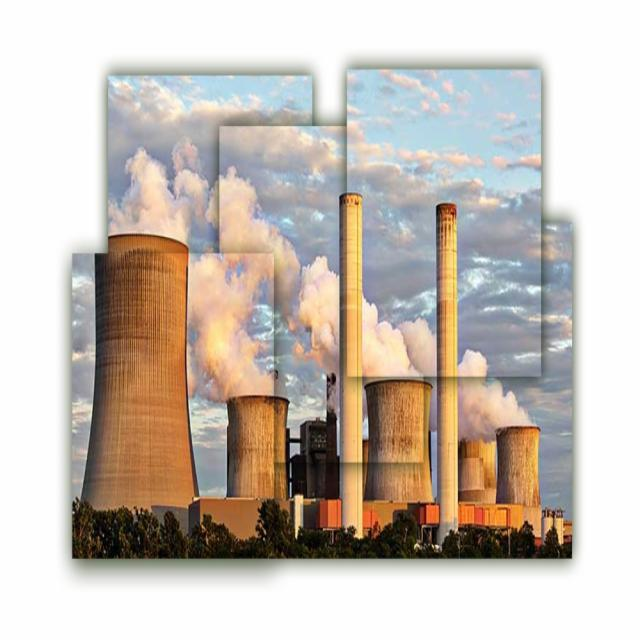Smoke: (108, 134, 539, 446)
